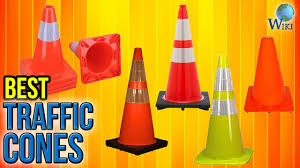cones: (104, 48, 168, 153), (154, 5, 211, 112), (198, 53, 252, 164), (20, 6, 78, 93), (244, 37, 295, 114), (68, 38, 121, 81)
